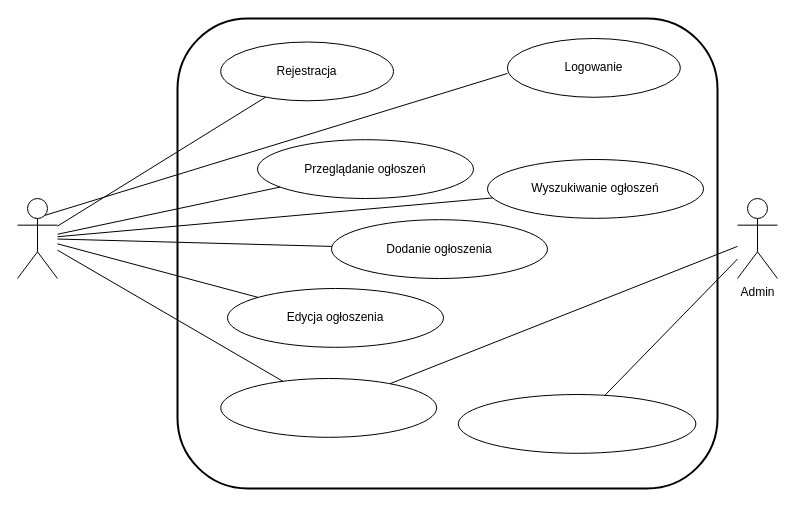
Image size: 795x506. Some labels were removed from this diagram. Each missing label, with the box of its shape:
User: (16, 198, 58, 278)
Usunięcie ogłoszenia: (220, 378, 437, 437)
Zarządzanie użytkownikami: (457, 394, 696, 453)
